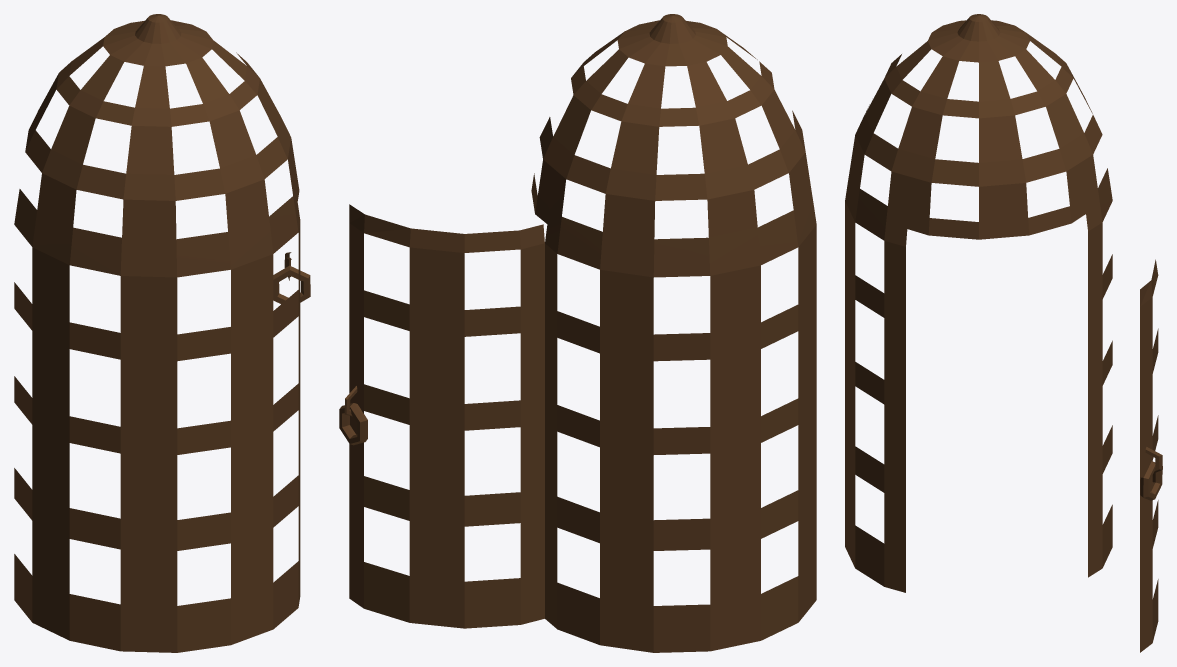
File: Cage.glb
3 views of the same model, side by side, from view 1: azimuth 30°, elevation 25°; view 2: azimuth 150°, elevation 25°; view 3: azimuth 270°, elevation 25° (orthographic). The views are drawn at different scales.
Visible parts, largest first — view 1: Cage.001; view 2: Cage.001; view 3: Cage.001.
Boxes of the visible parts, box(x1,y1,x2,y2) form: Cage.001: box(14, 14, 310, 652); Cage.001: box(339, 14, 816, 652); Cage.001: box(845, 14, 1162, 652).
Size of what is drawn, in the model's own units: 5.05 by 7.58 by 4.11.
